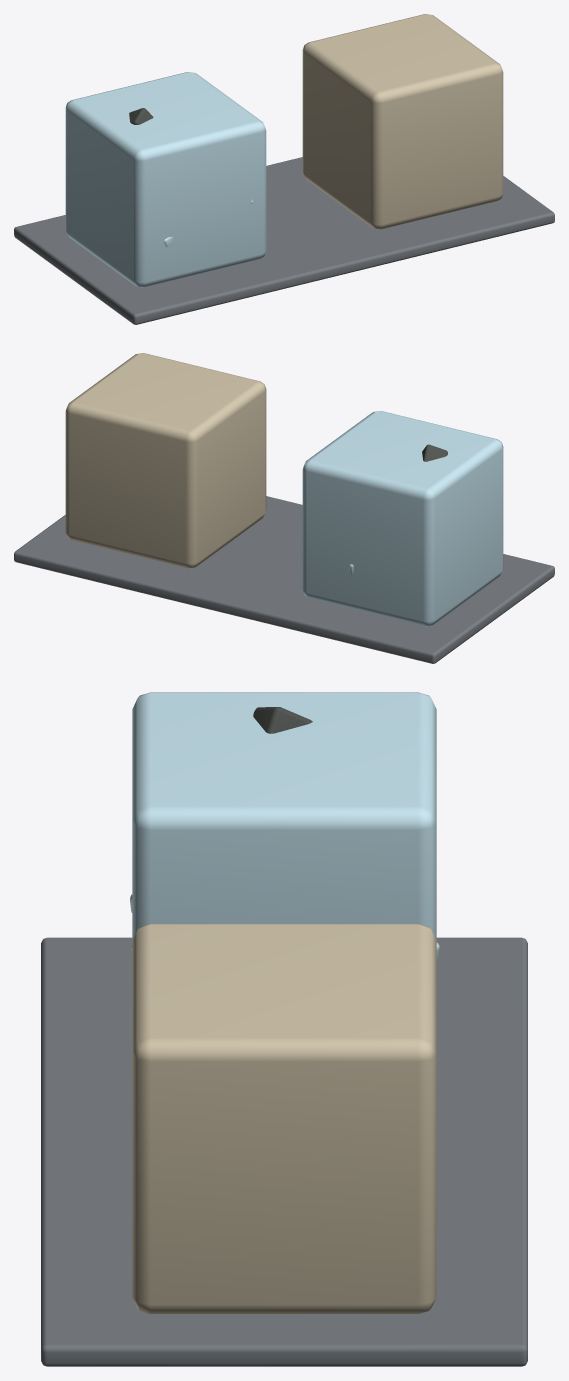
Rendered from blocks.glb.
3 renders of one model, top to bottom at view 1: azimuth 30°, elevation 25°; view 2: azimuth 150°, elevation 25°; view 3: azimuth 270°, elevation 25°, orthographic. The views are drawn at different scales.
Parts seen in each view (by area): view 1: anim-iceB, anim-iceA, anim-tray; view 2: anim-iceB, anim-iceA, anim-tray; view 3: anim-iceB, anim-tray, anim-iceA, anim-shards-k1.
Part boxes in pixels (box(x1,y1,x2,y2)): anim-iceB: box(302, 14, 503, 229); anim-iceA: box(65, 72, 266, 287); anim-tray: box(14, 157, 554, 324); anim-iceB: box(65, 353, 266, 568); anim-iceA: box(302, 411, 503, 626); anim-tray: box(14, 496, 554, 663); anim-iceB: box(132, 924, 436, 1313); anim-tray: box(41, 937, 527, 1366); anim-iceA: box(132, 692, 436, 940); anim-shards-k1: box(253, 707, 312, 733).
Bounding box in the file's own units: 1.6 × 0.5743 × 0.8.
